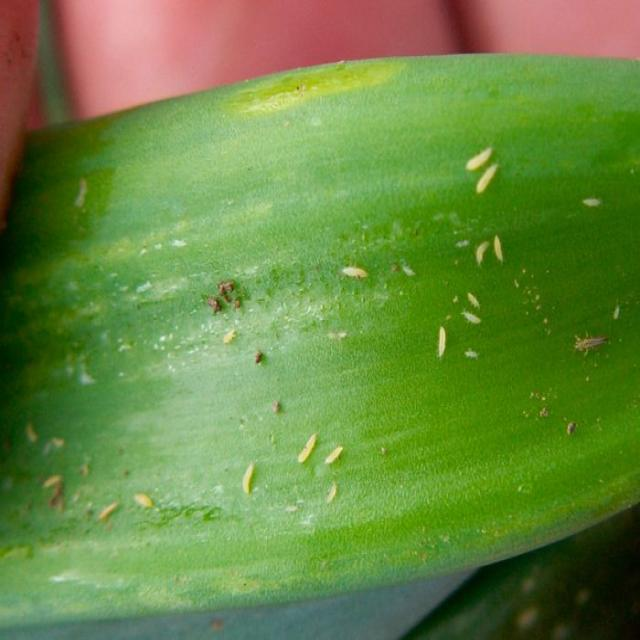Thrip-Adult-: (569, 330, 608, 356)
Thrip-Group-: (28, 59, 618, 565)
Thrip-Larva-: (474, 160, 504, 199), (296, 426, 320, 468), (463, 139, 493, 170), (130, 484, 158, 514), (457, 306, 488, 332), (91, 496, 122, 522), (471, 234, 492, 271), (490, 229, 508, 270), (240, 452, 255, 501), (342, 261, 374, 283), (38, 471, 66, 492), (579, 191, 605, 213), (465, 287, 487, 312), (433, 317, 446, 358), (462, 344, 486, 365), (321, 446, 343, 468), (325, 478, 343, 503), (220, 323, 237, 348), (401, 260, 417, 280), (610, 302, 622, 325)
